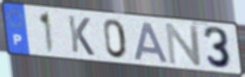0: (102, 18, 128, 59)
1: (38, 11, 55, 56)
3: (202, 26, 234, 71)
A: (133, 21, 172, 65)
K: (66, 14, 96, 58)
N: (163, 22, 204, 67)
